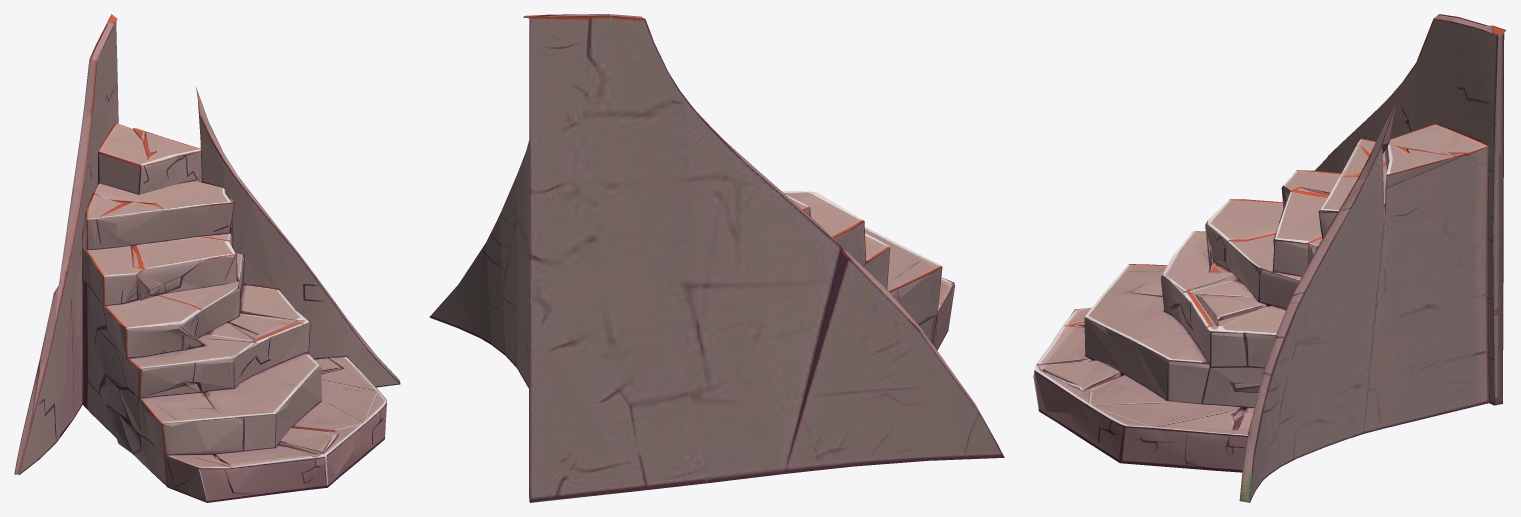
File: escada-pedra.glb
3 views of the same model, side by side, from view 1: azimuth 30°, elevation 25°; view 2: azimuth 150°, elevation 25°; view 3: azimuth 270°, elevation 25° (orthographic). The views are drawn at different scales.
Bounding box in the file's own units: 1.9 × 1.54 × 1.77.
1 material, 1 textured.
